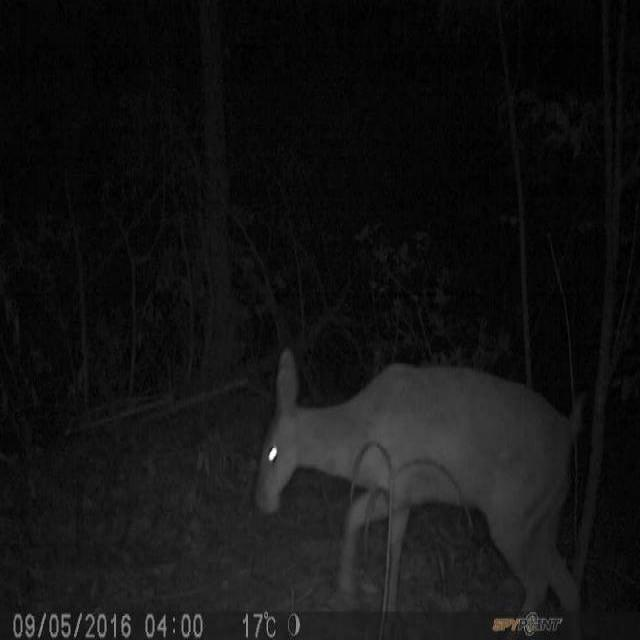deer: (256, 344, 586, 612)
